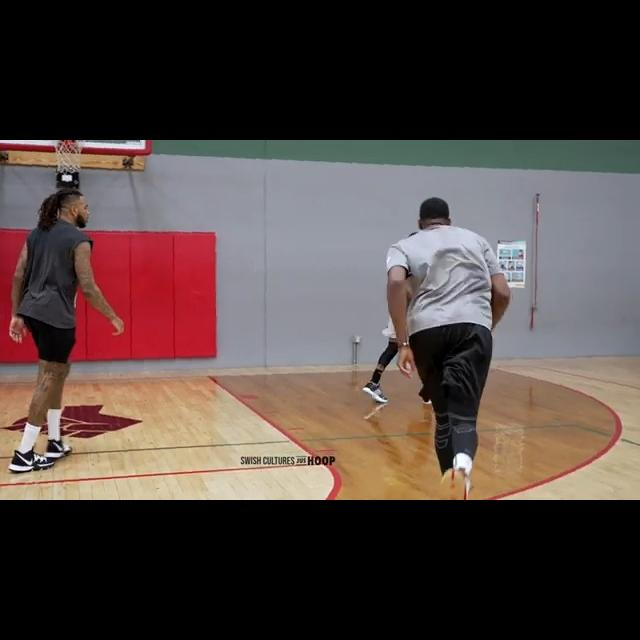hoop: (54, 140, 85, 174)
